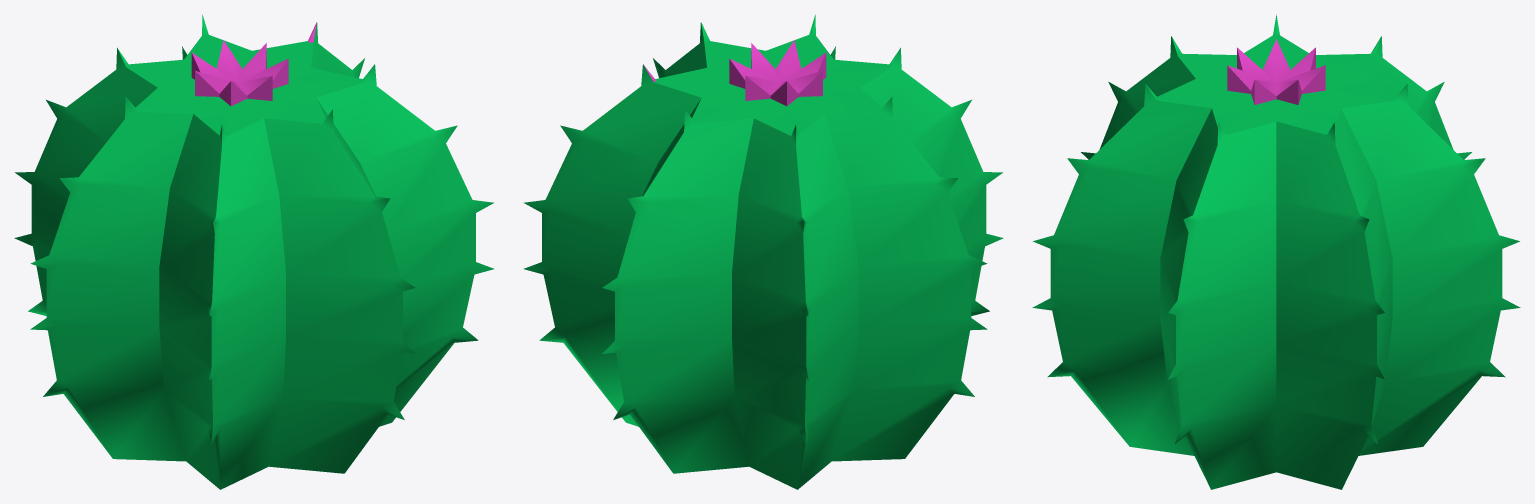
The model's file is CactusRound.fbx.
3 renders of one model, left to right at view 1: azimuth 30°, elevation 25°; view 2: azimuth 150°, elevation 25°; view 3: azimuth 270°, elevation 25°, orthographic.
Parts seen in each view (by area): view 1: RoundCactus; view 2: RoundCactus; view 3: RoundCactus.
Part boxes in pixels (<box>): RoundCactus: <box>14,14,494,489</box>; RoundCactus: <box>523,14,1003,489</box>; RoundCactus: <box>1032,14,1520,489</box>.
Size of the model in its own units: 4.94 by 4.23 by 5.06.
